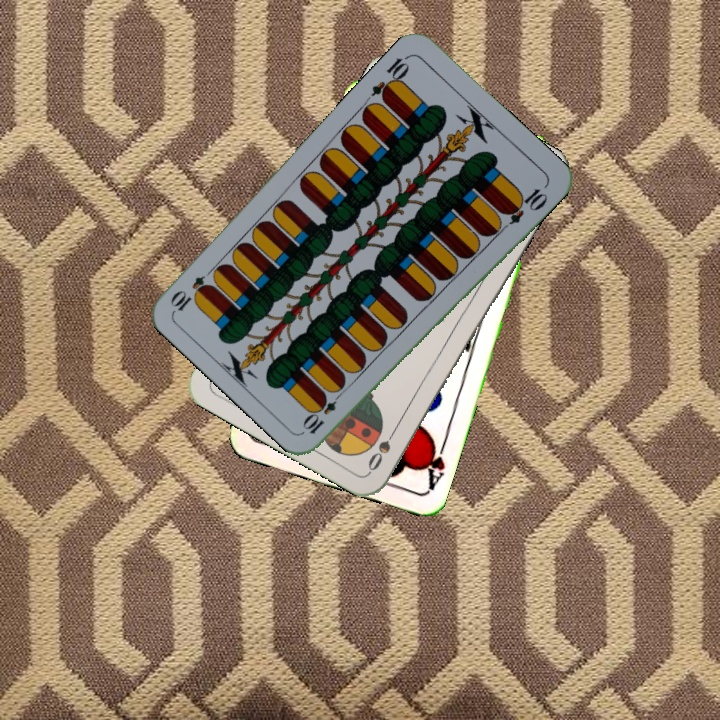E10: (367, 51, 413, 104), (300, 386, 346, 437)
HA: (419, 434, 450, 493)
SO: (363, 420, 402, 474)
